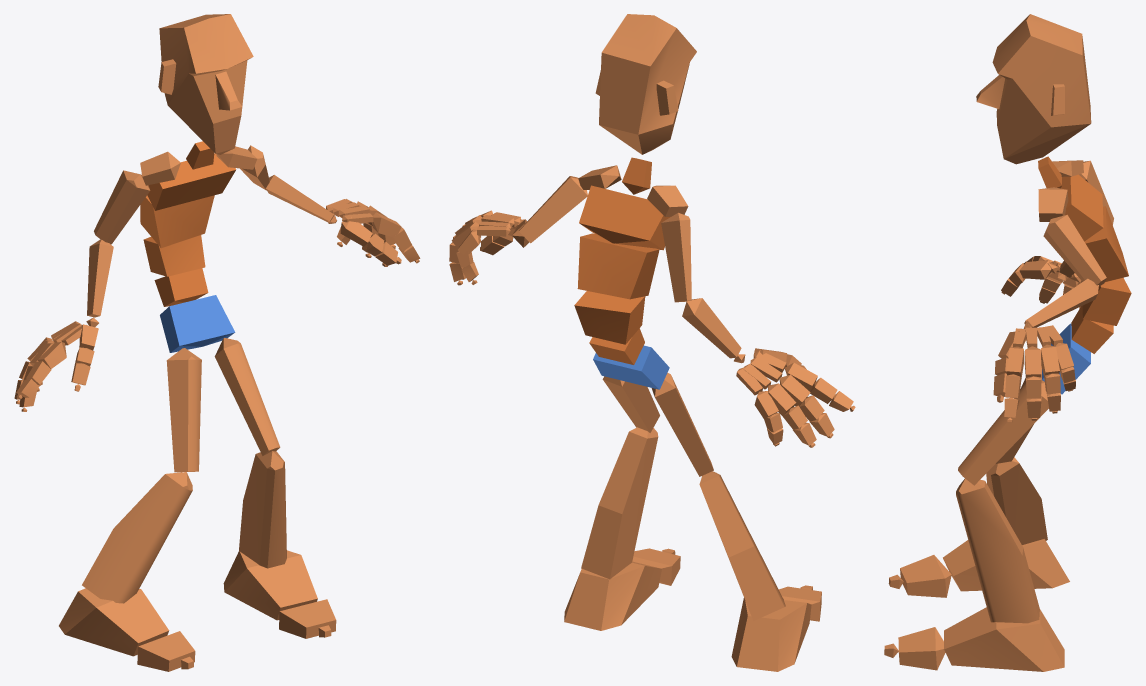
The model's file is prueba205.obj.
3 renders of one model, left to right at view 1: azimuth 30°, elevation 25°; view 2: azimuth 150°, elevation 25°; view 3: azimuth 270°, elevation 25°, orthographic. The views are drawn at different scales.
Parts seen in each view (by area): view 1: BOPED_Head, BOPED_R_leg, BOPED_R_foot, BOPED_L_leg, BOPED_R_foot01, BOPED_R_legup, BOPED_L_legup, Bone01, Bone05, Bone04, BOPED_R_arm_upper, Bone03 (+8 smaller); view 2: BOPED_Head, BOPED_L_leg, BOPED_R_leg, BOPED_R_foot01, BOPED_R_foot, Bone04, Bone05, Bone03, BOPED_R_legup, BOPED_R_arm_upper, Bone01, BOPED_L_arm_upper (+8 smaller); view 3: BOPED_Head, BOPED_L_leg, BOPED_R_foot01, BOPED_R_leg, BOPED_L_legup, BOPED_R_foot, BOPED_L_arm_upper, Bone05, BOPED_R_foot_toe01, BOPED_R_foot_toe04, Bone04, Bone03 (+11 smaller).
Part boxes in pixels (<box>): BOPED_Head: <box>158,14,253,154</box>; BOPED_R_leg: <box>82,472,192,603</box>; BOPED_R_foot: <box>59,588,169,656</box>; BOPED_L_leg: <box>239,451,286,568</box>; BOPED_R_foot01: <box>223,550,317,620</box>; BOPED_R_legup: <box>166,348,201,472</box>; BOPED_L_legup: <box>214,338,280,455</box>; Bone01: <box>160,295,235,352</box>; Bone05: <box>147,153,236,210</box>; Bone04: <box>140,195,214,248</box>; BOPED_R_arm_upper: <box>94,170,150,244</box>; Bone03: <box>143,235,205,276</box>; BOPED_Head: <box>595,14,696,154</box>; BOPED_L_leg: <box>581,427,658,579</box>; BOPED_R_leg: <box>699,471,785,620</box>; BOPED_R_foot01: <box>564,561,661,630</box>; BOPED_R_foot: <box>731,598,811,671</box>; Bone04: <box>577,233,659,299</box>; Bone05: <box>579,185,670,250</box>; Bone03: <box>574,291,645,344</box>; BOPED_R_legup: <box>651,372,713,476</box>; BOPED_R_arm_upper: <box>661,212,691,302</box>; Bone01: <box>593,345,669,389</box>; BOPED_L_arm_upper: <box>518,176,587,243</box>; BOPED_Head: <box>976,14,1091,164</box>; BOPED_L_leg: <box>956,478,1039,623</box>; BOPED_R_foot01: <box>944,607,1064,671</box>; BOPED_R_leg: <box>986,457,1047,544</box>; BOPED_L_legup: <box>958,381,1048,485</box>; BOPED_R_foot: <box>943,539,1069,591</box>; BOPED_L_arm_upper: <box>1043,214,1106,286</box>; Bone05: <box>1061,174,1103,241</box>; BOPED_R_foot_toe01: <box>900,555,951,597</box>; BOPED_R_foot_toe04: <box>898,627,945,670</box>; Bone04: <box>1084,206,1128,281</box>; Bone03: <box>1082,277,1131,325</box>.
Bounding box in the file's own units: 130 × 185 × 67.68.
